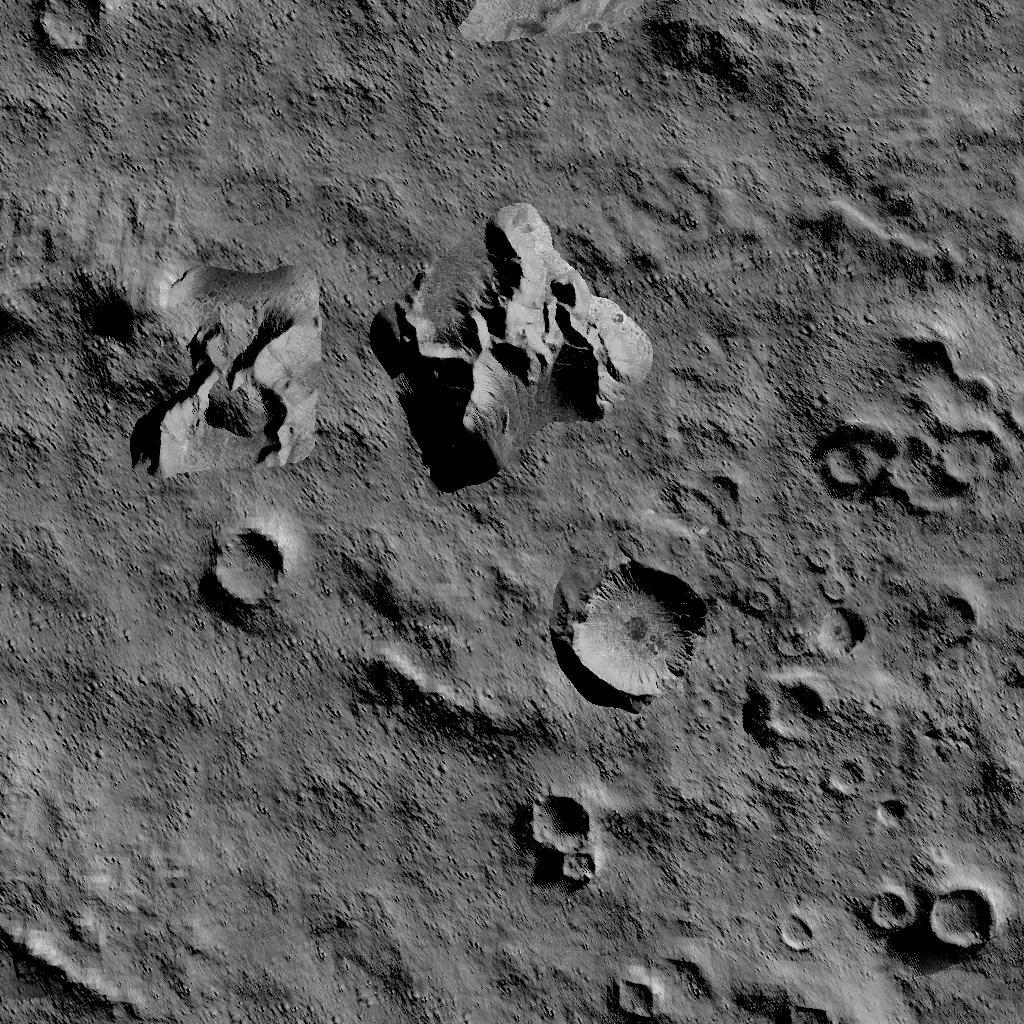Boulders: (0, 182, 321, 472), (371, 205, 648, 488), (436, 0, 823, 108), (803, 125, 1024, 288), (353, 645, 553, 758), (0, 908, 151, 1024)
Crater: (816, 335, 1024, 513), (566, 560, 708, 700), (854, 878, 1000, 952), (526, 790, 606, 893), (206, 522, 290, 612), (746, 668, 830, 752), (28, 0, 118, 60), (604, 970, 660, 1024)
Plan surface: (0, 488, 196, 896), (210, 770, 516, 1024), (133, 0, 423, 170), (836, 0, 1024, 113)
